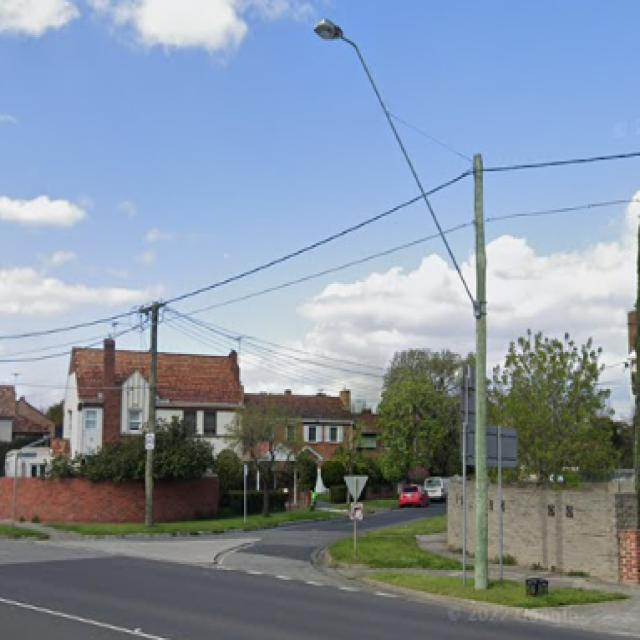streetlight: (313, 18, 477, 307)
timber-pole: (474, 155, 488, 592), (144, 301, 158, 526)
